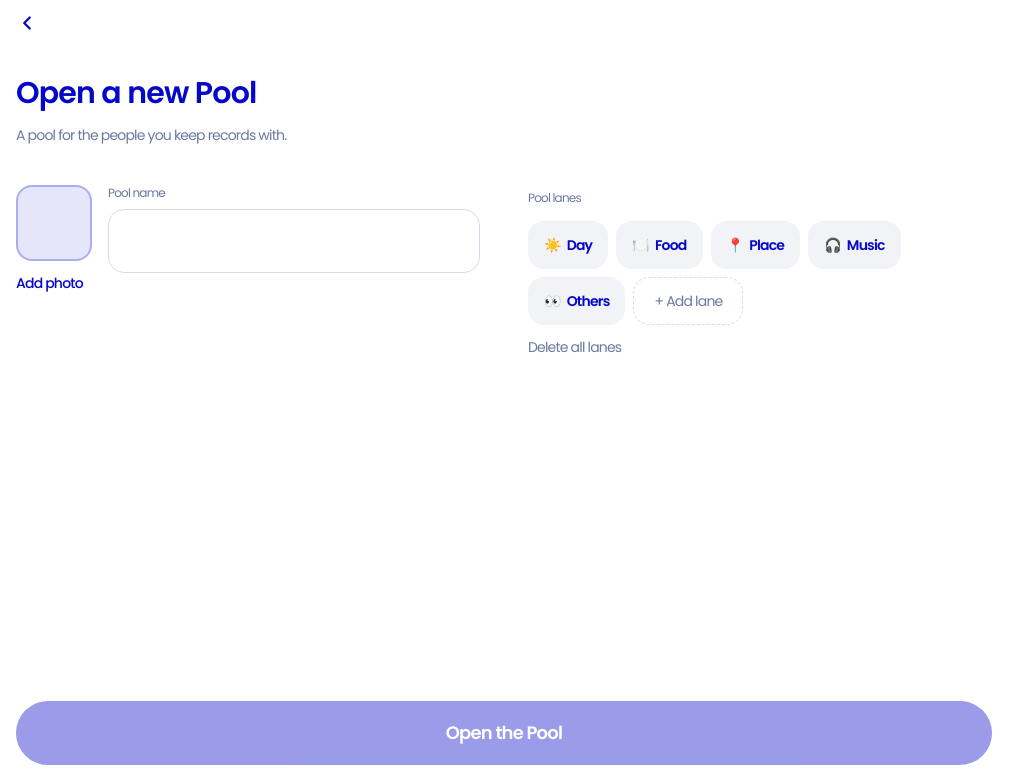
Test: opening a new pool (review) › opens the pool only once it has a name and a lane
Click the button "Delete all lanes".
click(575, 346)  # box 528,336 -> 621,356
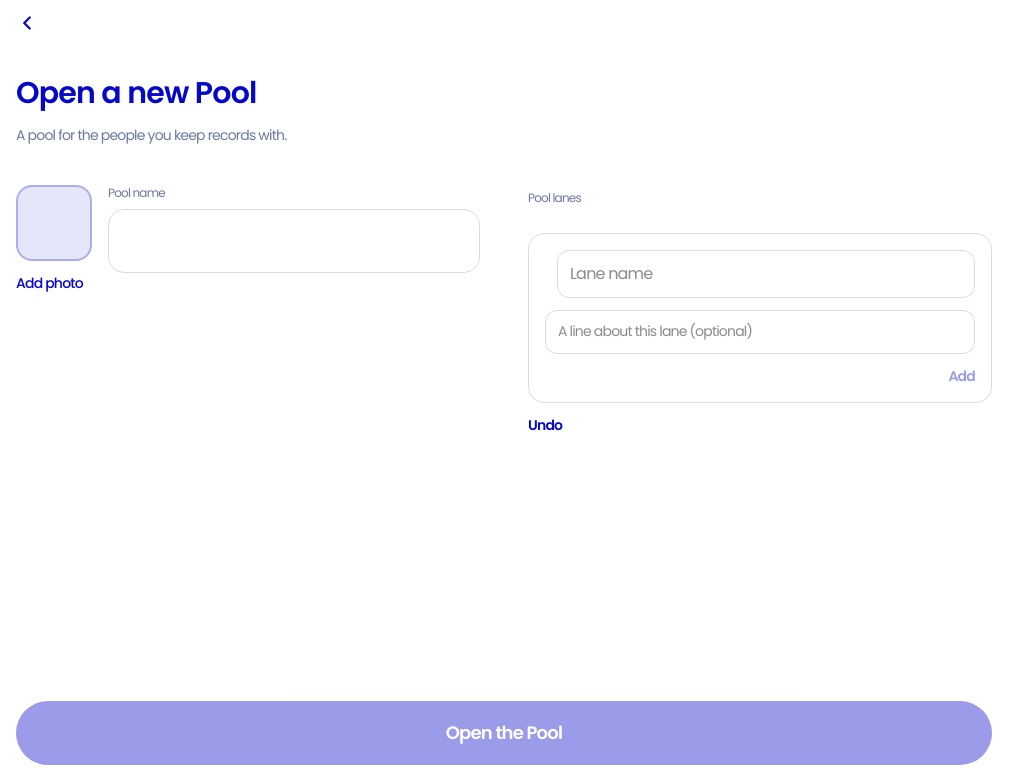
Expected: the button "Open the Pool" is disabled, 16,701 -> 992,765
Type "Sarang" into the field labelled "Pool name".
click(294, 240); type("Sarang")  # box 108,208 -> 480,272
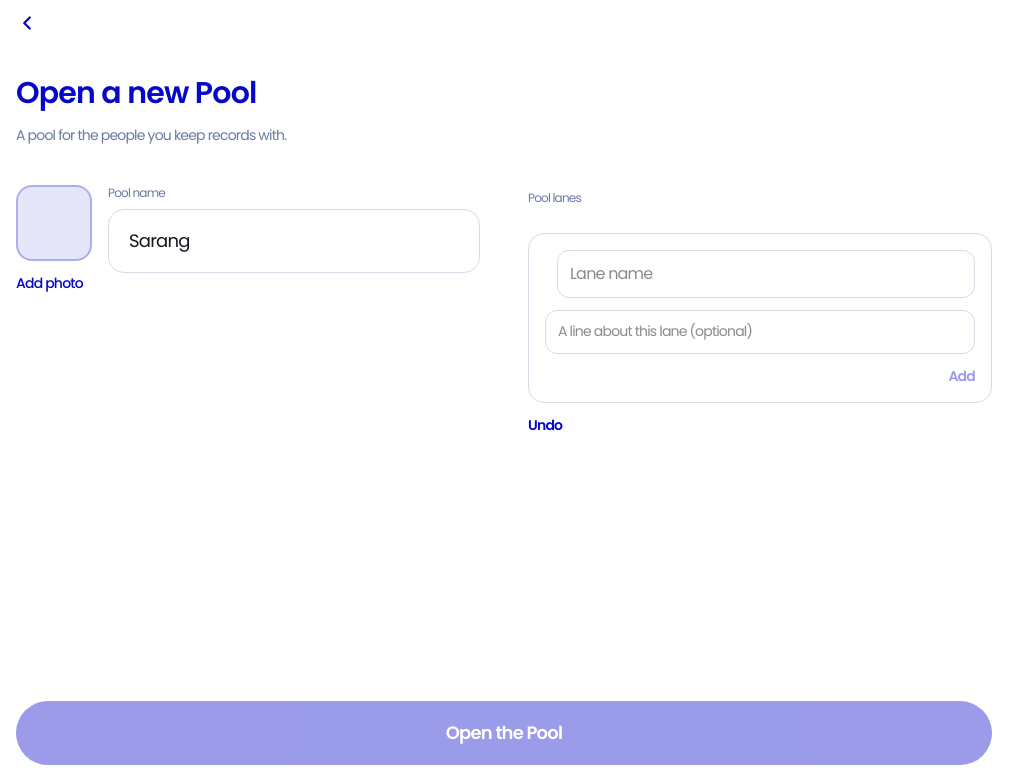
Expected: the button "Open the Pool" is disabled, 16,701 -> 992,765
Type "Trips" into the field named "Lane name".
click(766, 274); type("Trips")  # box 557,250 -> 975,298
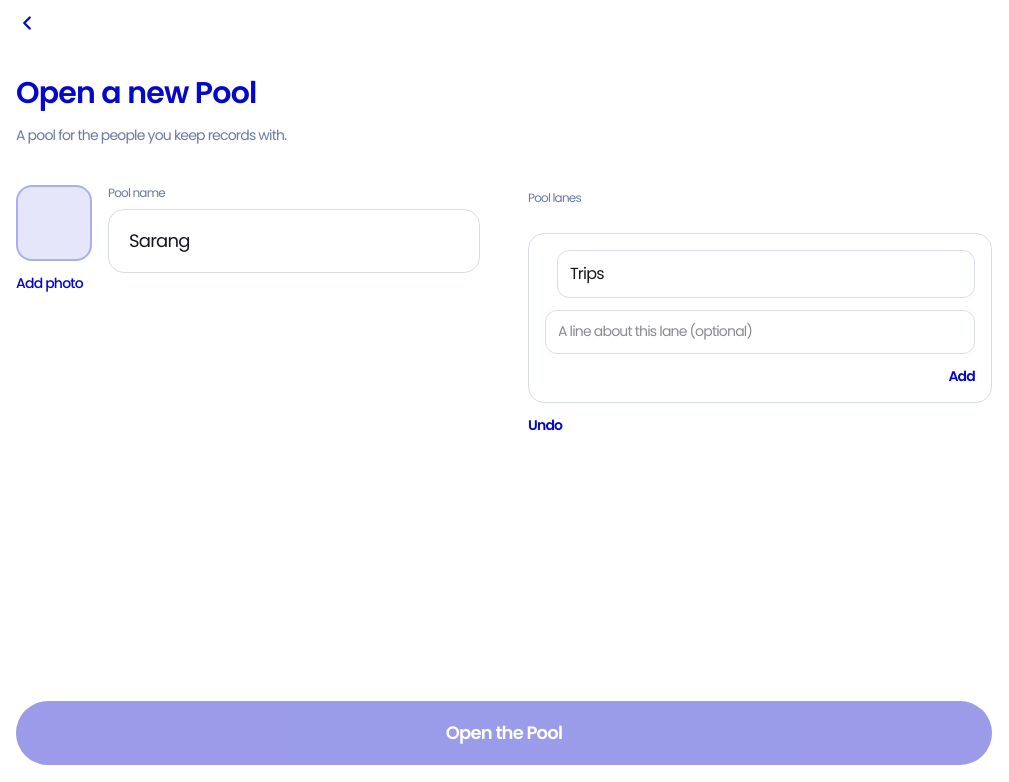
Click the button "Add".
click(962, 376)  # box 948,366 -> 975,386
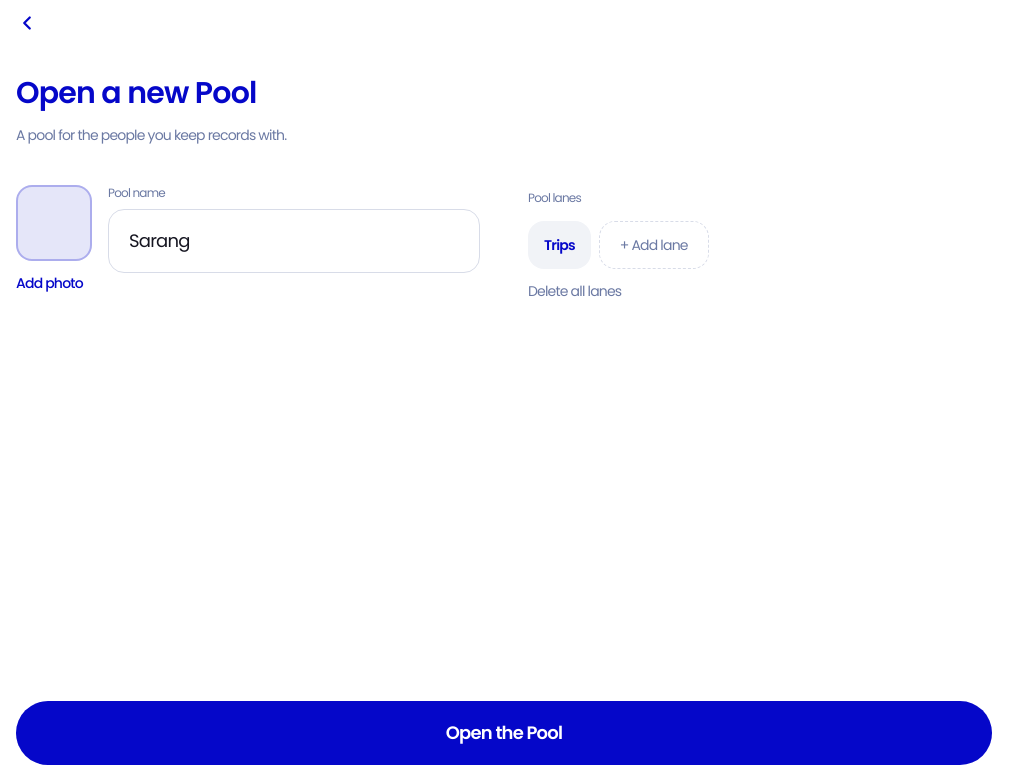
Expected: the button "Open the Pool" is shown, 16,701 -> 992,765
Expected: the button "Open the Pool" is enabled, 16,701 -> 992,765
